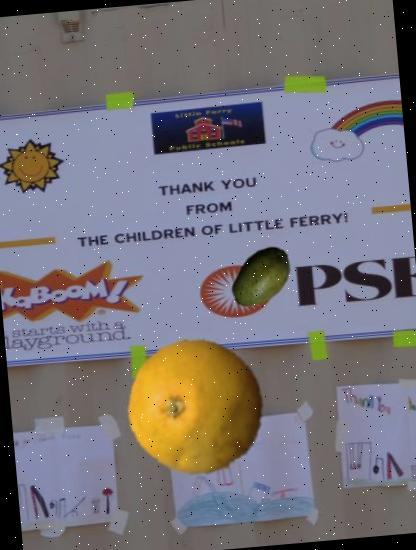Avocado: (224, 239, 300, 316)
Grapefruit: (120, 334, 274, 486)
